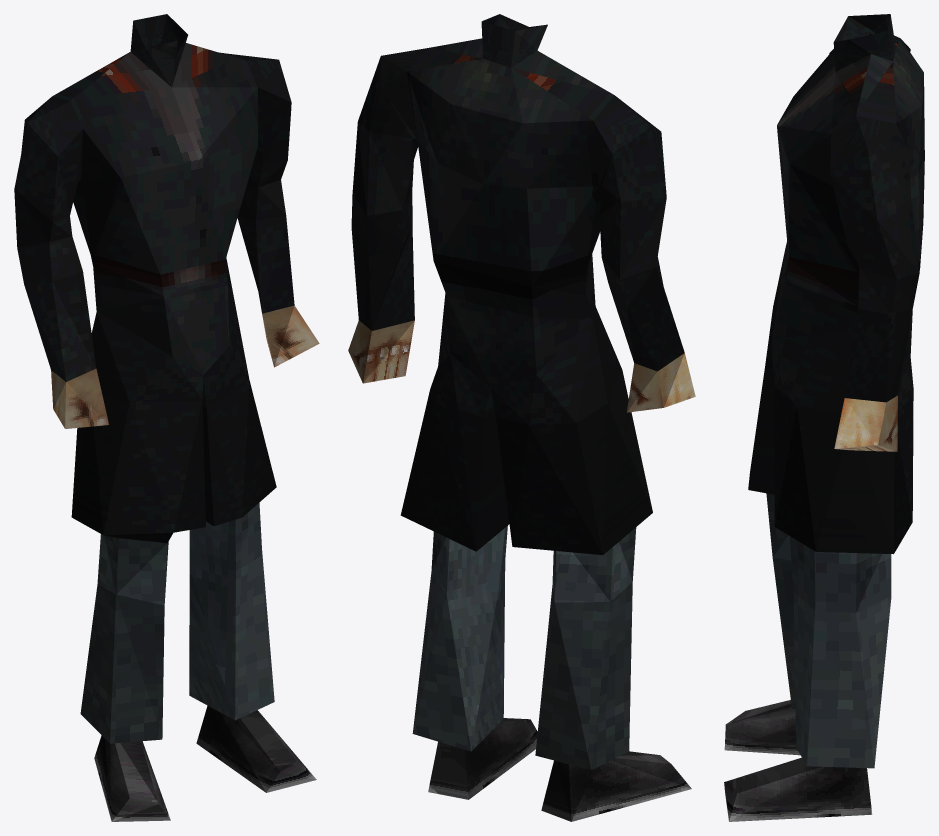
File: primary_019.glb
3 views of the same model, side by side, from view 1: azimuth 30°, elevation 25°; view 2: azimuth 150°, elevation 25°; view 3: azimuth 270°, elevation 25° (orthographic). The views are drawn at different scales.
Visible parts, largest first — view 1: Object; view 2: Object; view 3: Object.
Part boxes in pixels (x1,y1,x2,y2): Object: (14,14,319,821); Object: (348,14,695,821); Object: (724,14,924,821).
Size of the model in its own units: 0.7429 by 1.8 by 0.4312.
Materials: 68 (68 with a texture image).
